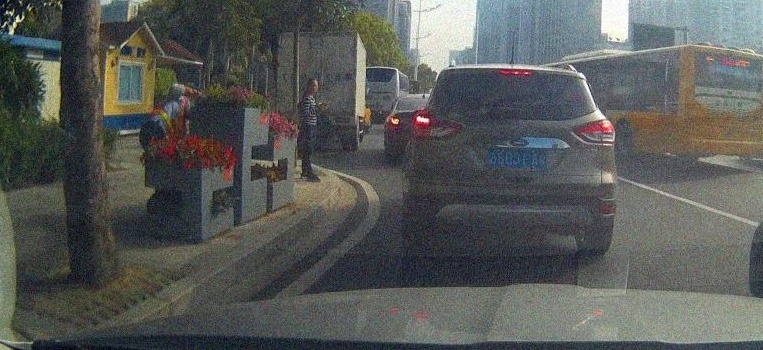L_light: (410, 110, 463, 141)
R_light: (568, 118, 616, 146)
T_light: (499, 69, 534, 76)
day-left: (401, 60, 618, 255)
